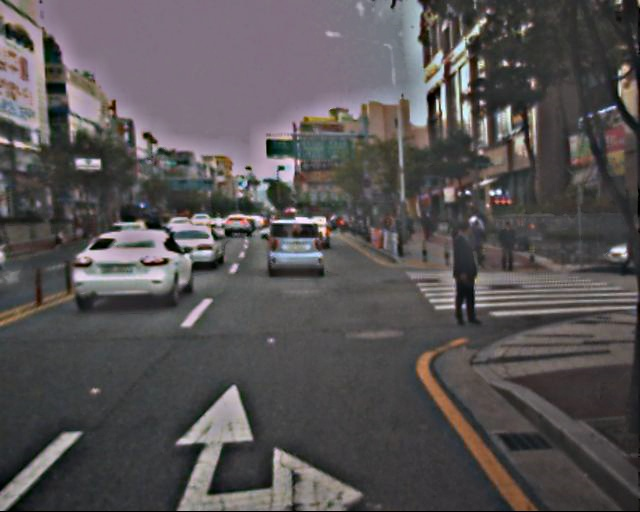person: (441, 220, 485, 327), (465, 210, 487, 264), (497, 218, 519, 271)
